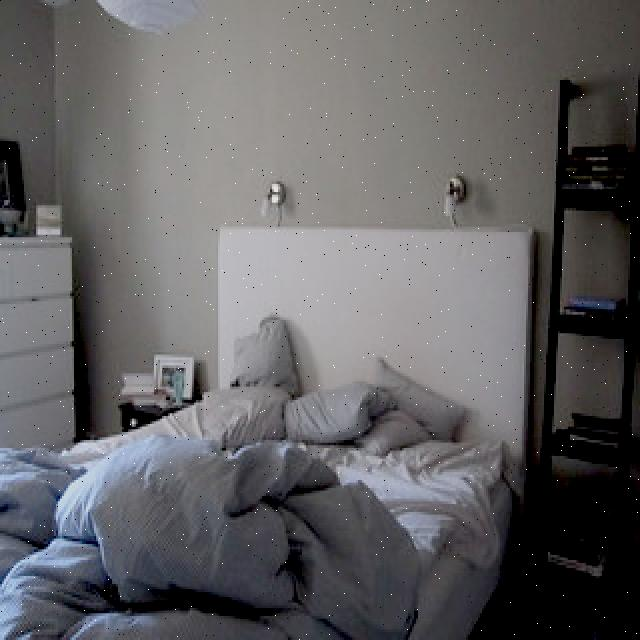bed: (0, 312, 516, 640)
